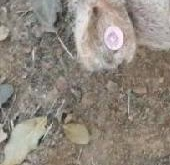text: (97, 21, 134, 57)
